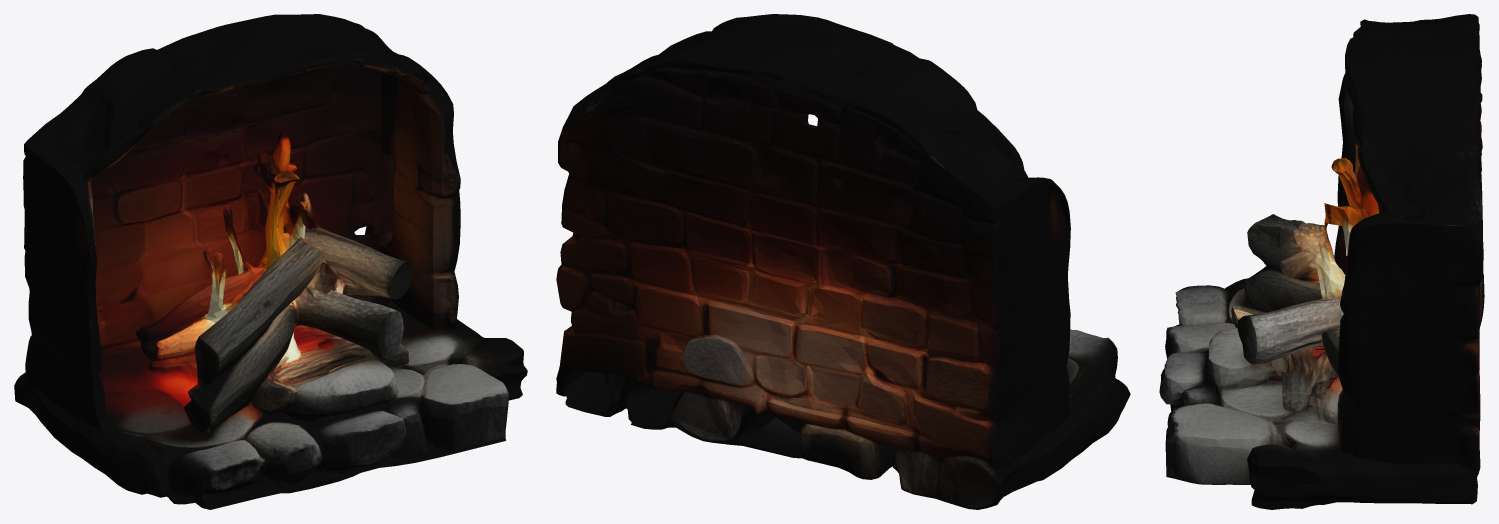
Rendered from lava-rock-fireplace-bricks-rustic.jpeg.glb.
3 renders of one model, left to right at view 1: azimuth 30°, elevation 25°; view 2: azimuth 150°, elevation 25°; view 3: azimuth 270°, elevation 25°, orthographic. The views are drawn at different scales.
Parts seen in each view (by area): view 1: world; view 2: world; view 3: world.
Part boxes in pixels (box(x1,y1,x2,y2)): world: box(14, 14, 527, 509); world: box(556, 14, 1130, 509); world: box(1159, 14, 1484, 509).
Size of the model in its own units: 0.9941 by 0.8148 by 0.6675.
1 material, 1 textured.
